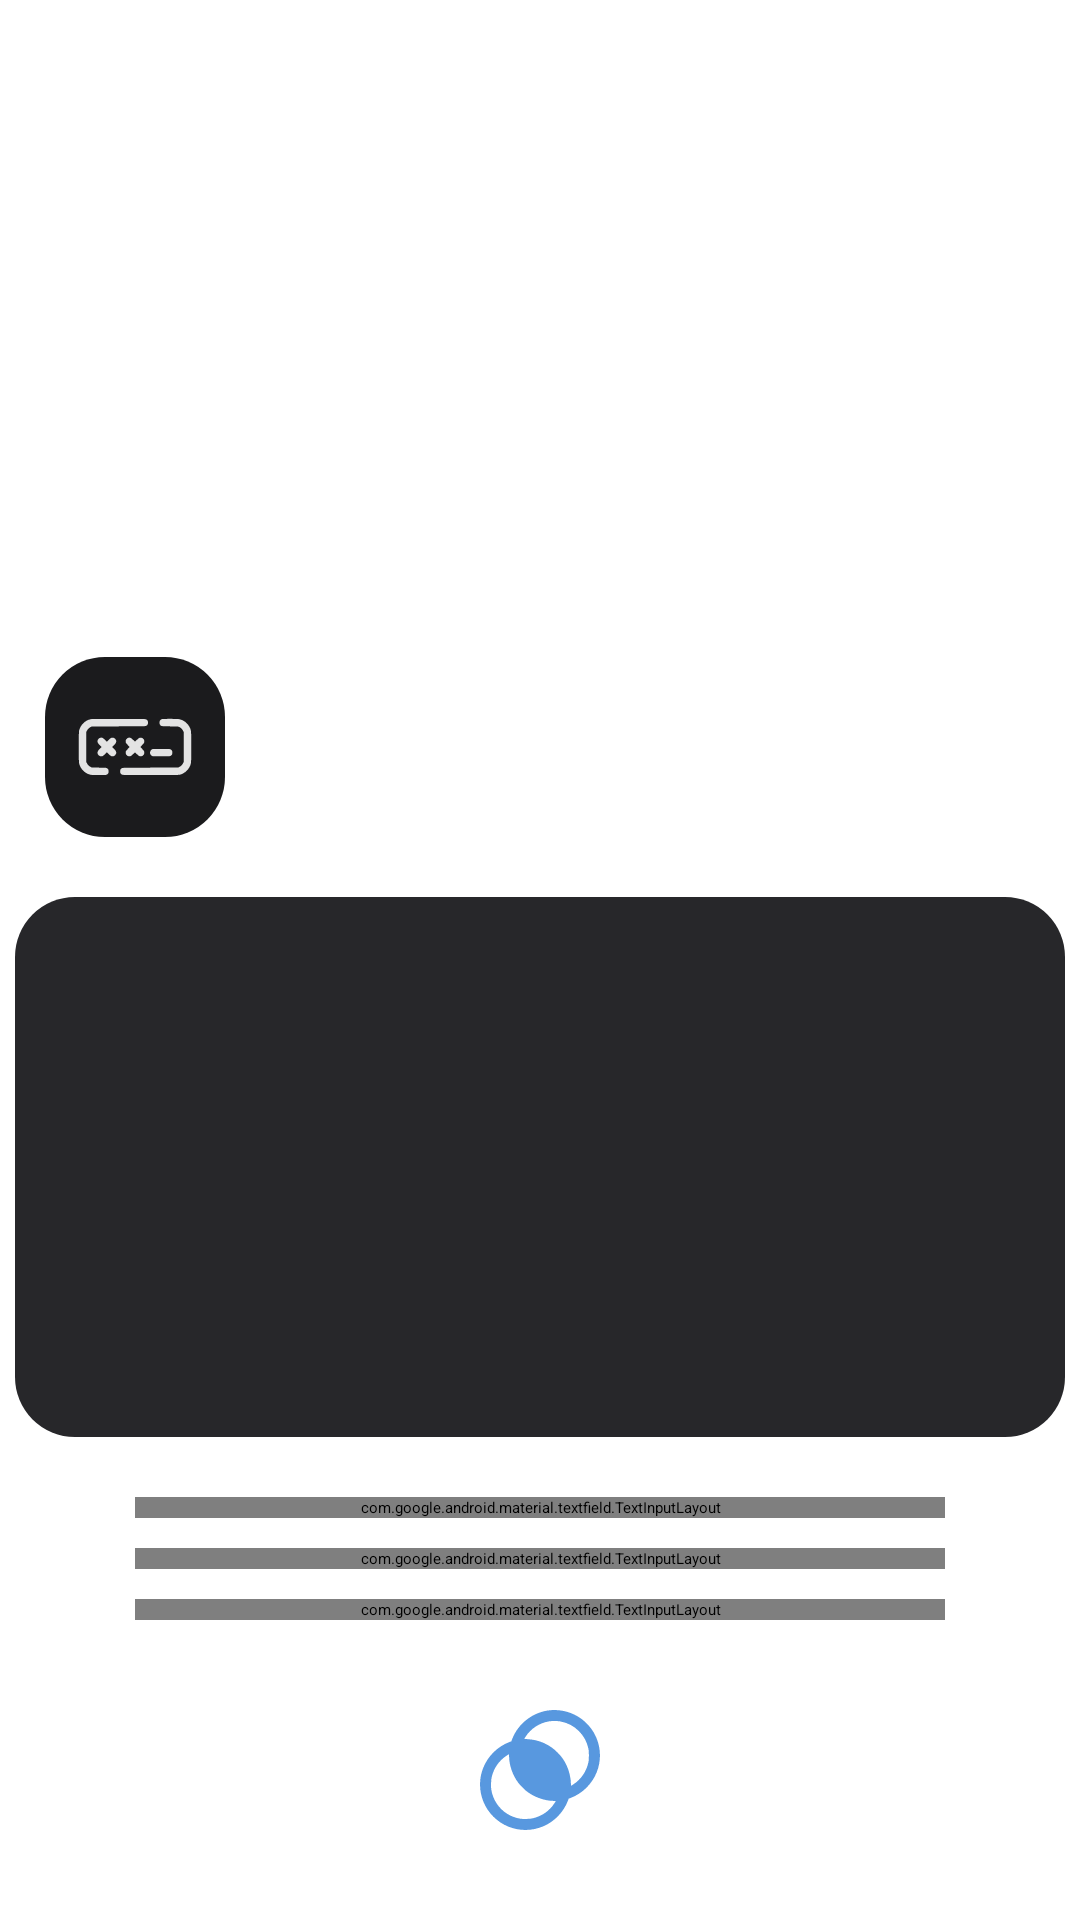

Point at icon controls on the screen. Image size 1080px x 1920px, points as (x=x, y=y).
generator: (x=135, y=746)
